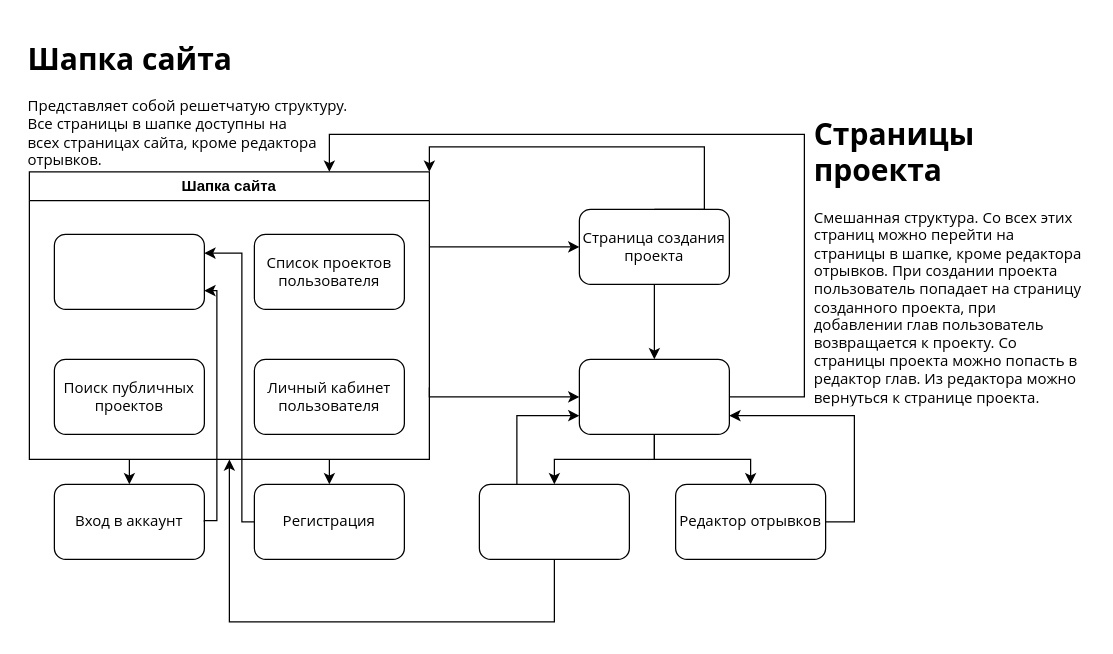
This 1113x654 diagram has some shape labels left out. Each missing label, with the centre of its shape:
Главная страница: [128,271]
Страница добавления глав: [553,521]
Страница проекта: [653,396]
